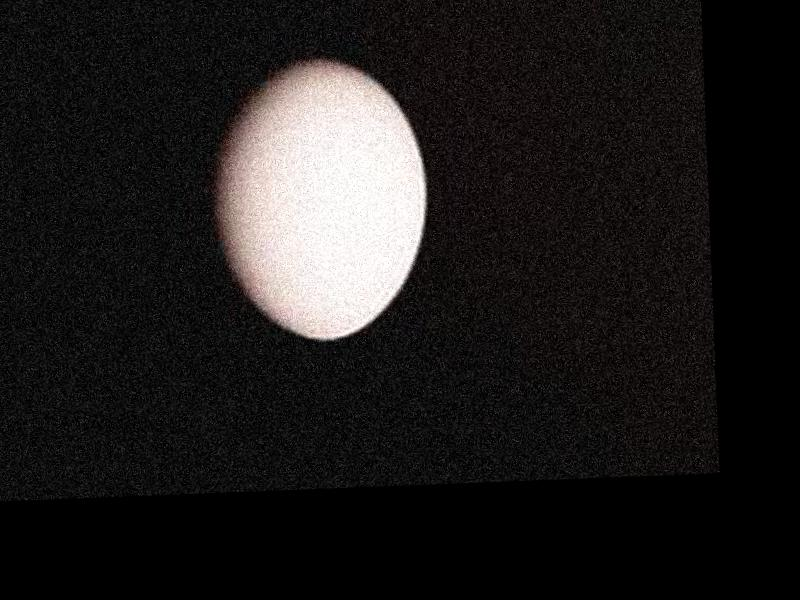Eggs: (211, 50, 431, 344)
